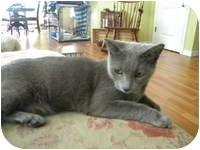rblue: (104, 33, 168, 101)
